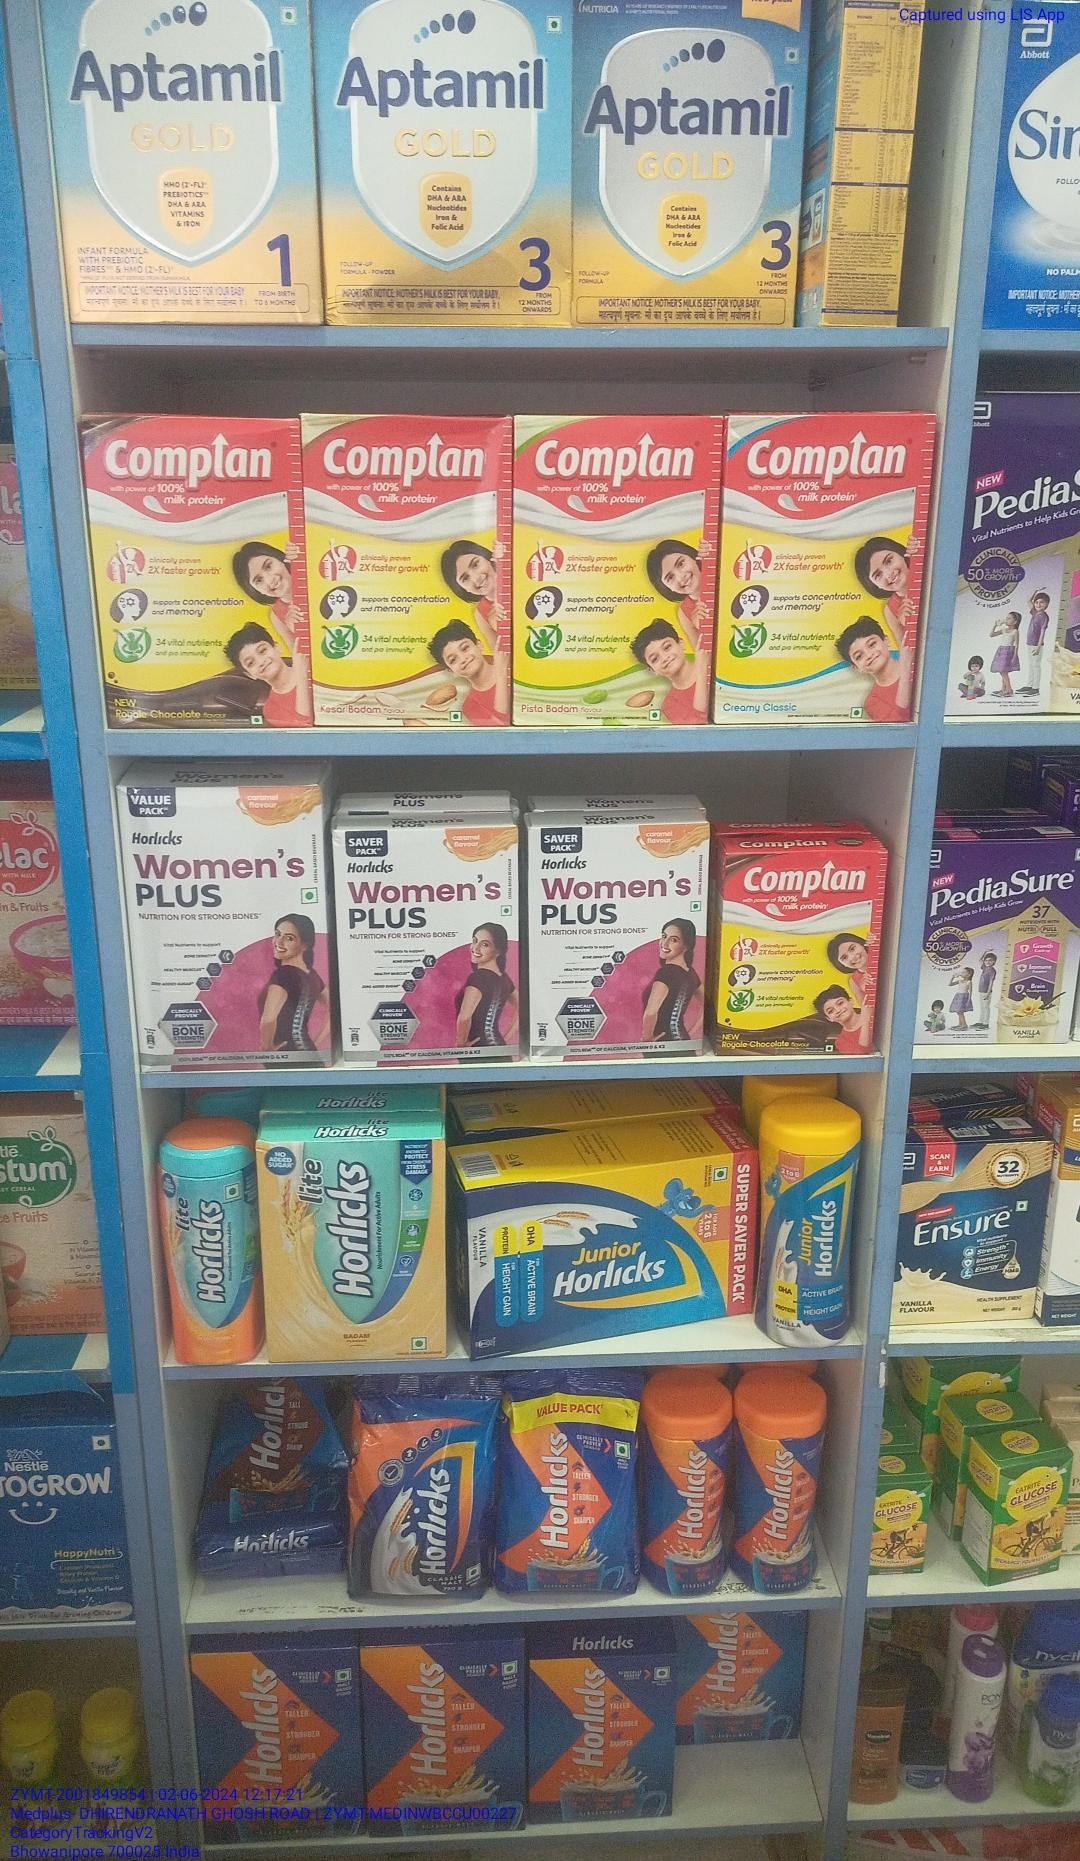HORLICKS_JUNIOR_VANILLA_500_GM_JAR: (766, 1110, 858, 1348)
HORLICKS_LITE_REGULAR_MALT_500_GM_JAR: (172, 1130, 258, 1369)
PEDIASURE_VANILLA_500_G_PACK: (919, 821, 1080, 1055)
